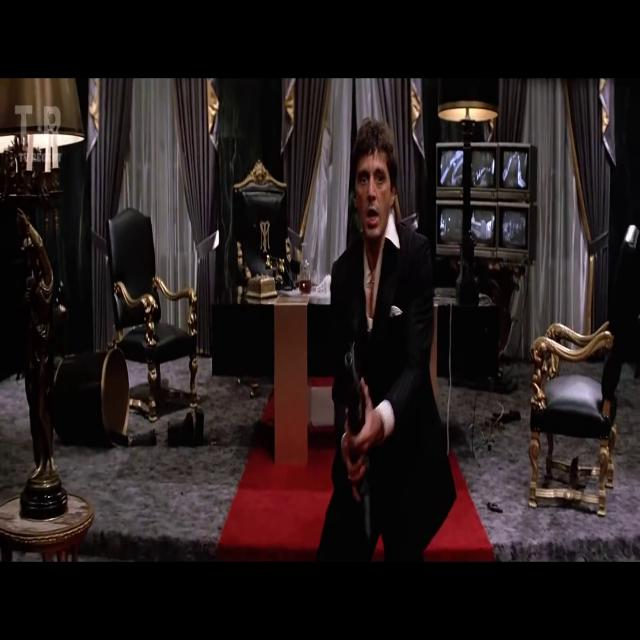long weapon: (334, 324, 401, 540)
